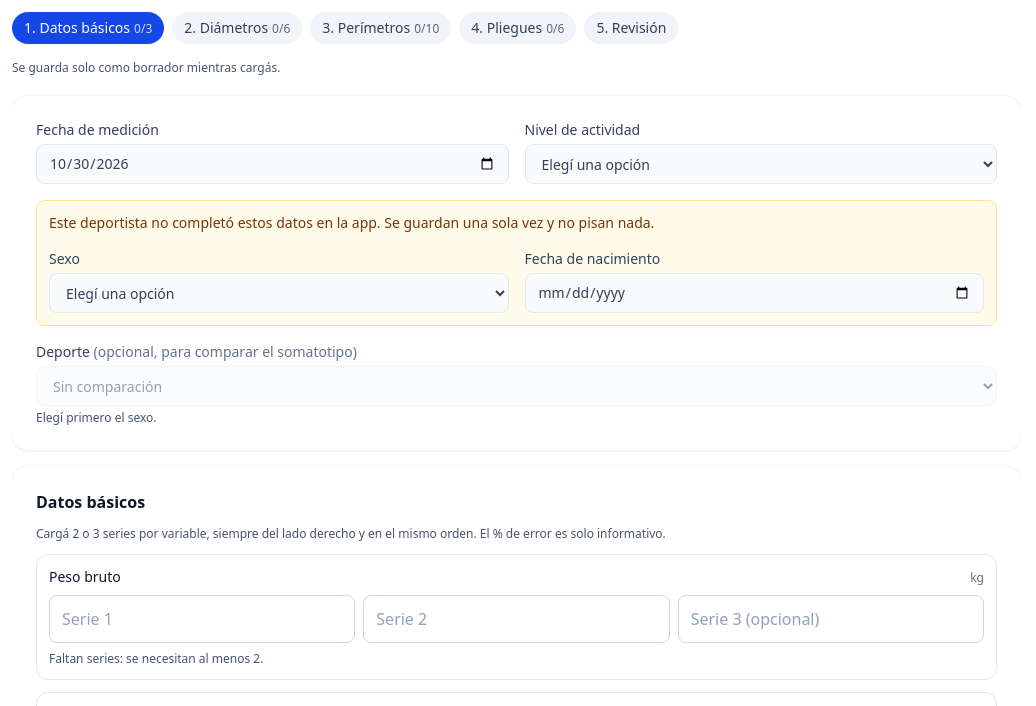
MedicionWizard — deportista sin datos › pide el sexo y la fecha de nacimiento, y el deporte espera al sexo
Expected: the date field labelled "Fecha de nacimiento" is shown, [524,273,984,313]
Expected: the dropdown labelled "Deporte (opcional, para comparar el somatotipo)" is disabled, [36,366,997,406]
Select "Femenino" in the dropdown labelled "Sexo". click: {"x": 279, "y": 293}
box: [49,273,508,313]
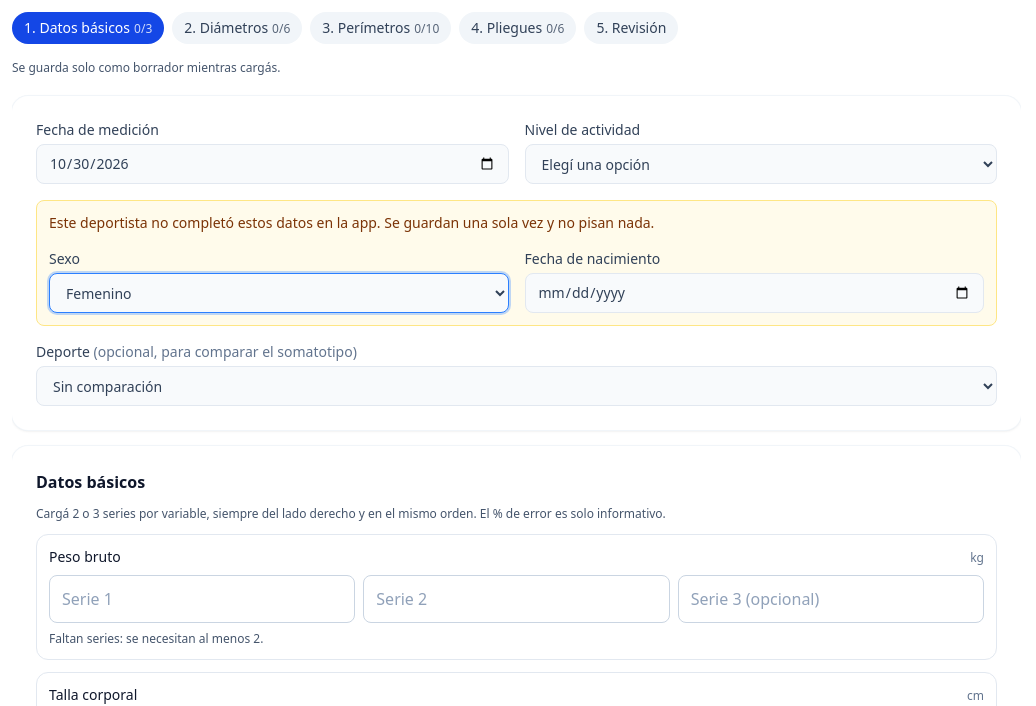
Result: the dropdown labelled "Deporte (opcional, para comparar el somatotipo)" is enabled at [36,366,997,406]
